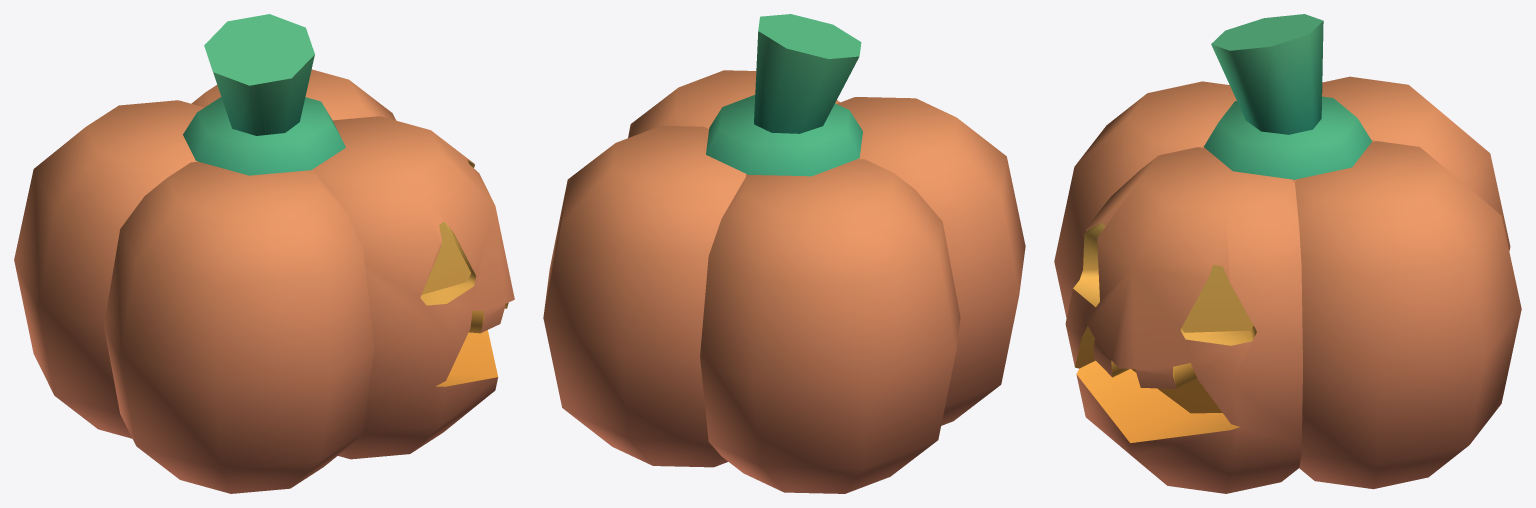
File: pumpkin-carved_lev3.glb
3 renders of one model, left to right at view 1: azimuth 30°, elevation 25°; view 2: azimuth 150°, elevation 25°; view 3: azimuth 270°, elevation 25°, orthographic.
Visible parts, largest first — view 1: pumpkin-carved_lev3; view 2: pumpkin-carved_lev3; view 3: pumpkin-carved_lev3.
Boxes of the visible parts, bbox=[...] form: pumpkin-carved_lev3: bbox=[14, 14, 514, 493]; pumpkin-carved_lev3: bbox=[543, 14, 1025, 493]; pumpkin-carved_lev3: bbox=[1054, 14, 1521, 493].
Size of the model in its own units: 3.28 by 3.09 by 3.28.
Materials: 1 (1 with a texture image).
